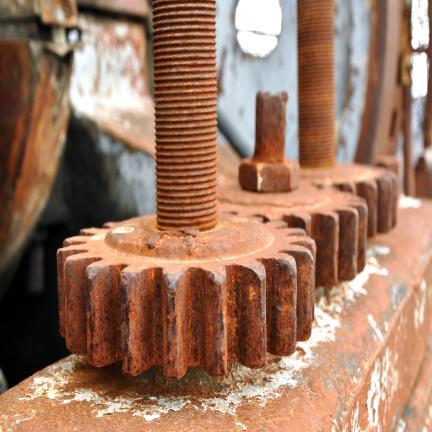karat: (57, 0, 432, 432)
